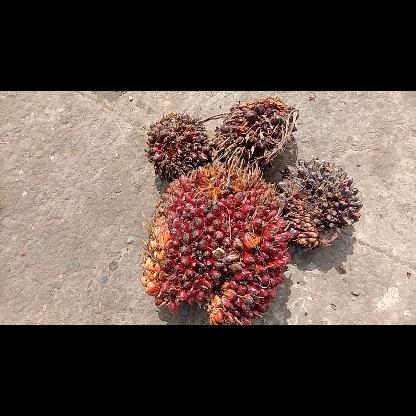TBS abnormal: (275, 156, 365, 250), (212, 94, 300, 174), (142, 110, 212, 182)
TBS masak: (138, 160, 292, 324)
